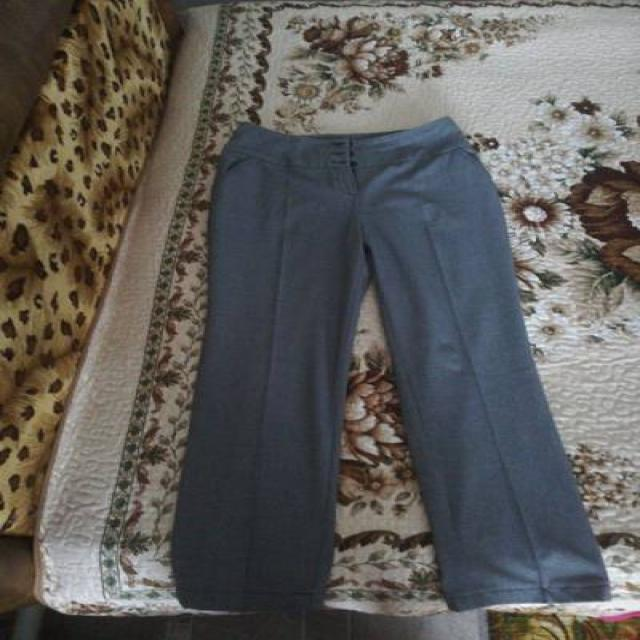Clothes -Biodegradable-: (167, 116, 609, 611)
